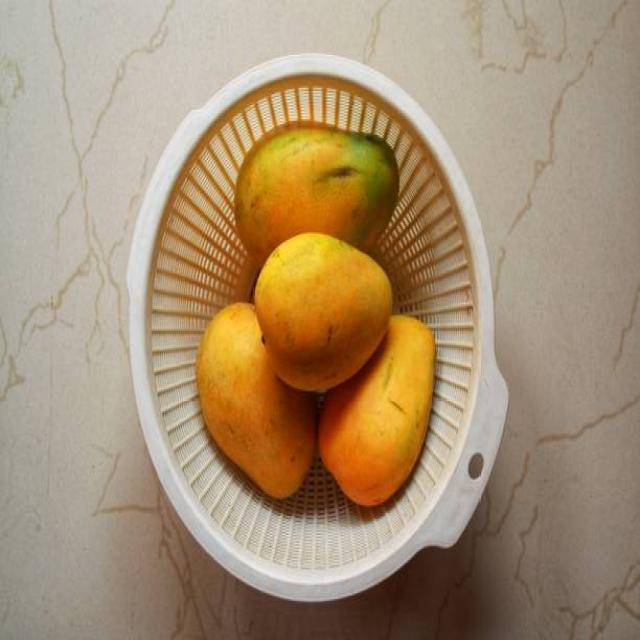mango: (235, 122, 399, 262), (198, 306, 316, 498), (319, 317, 434, 505), (255, 234, 392, 391)
